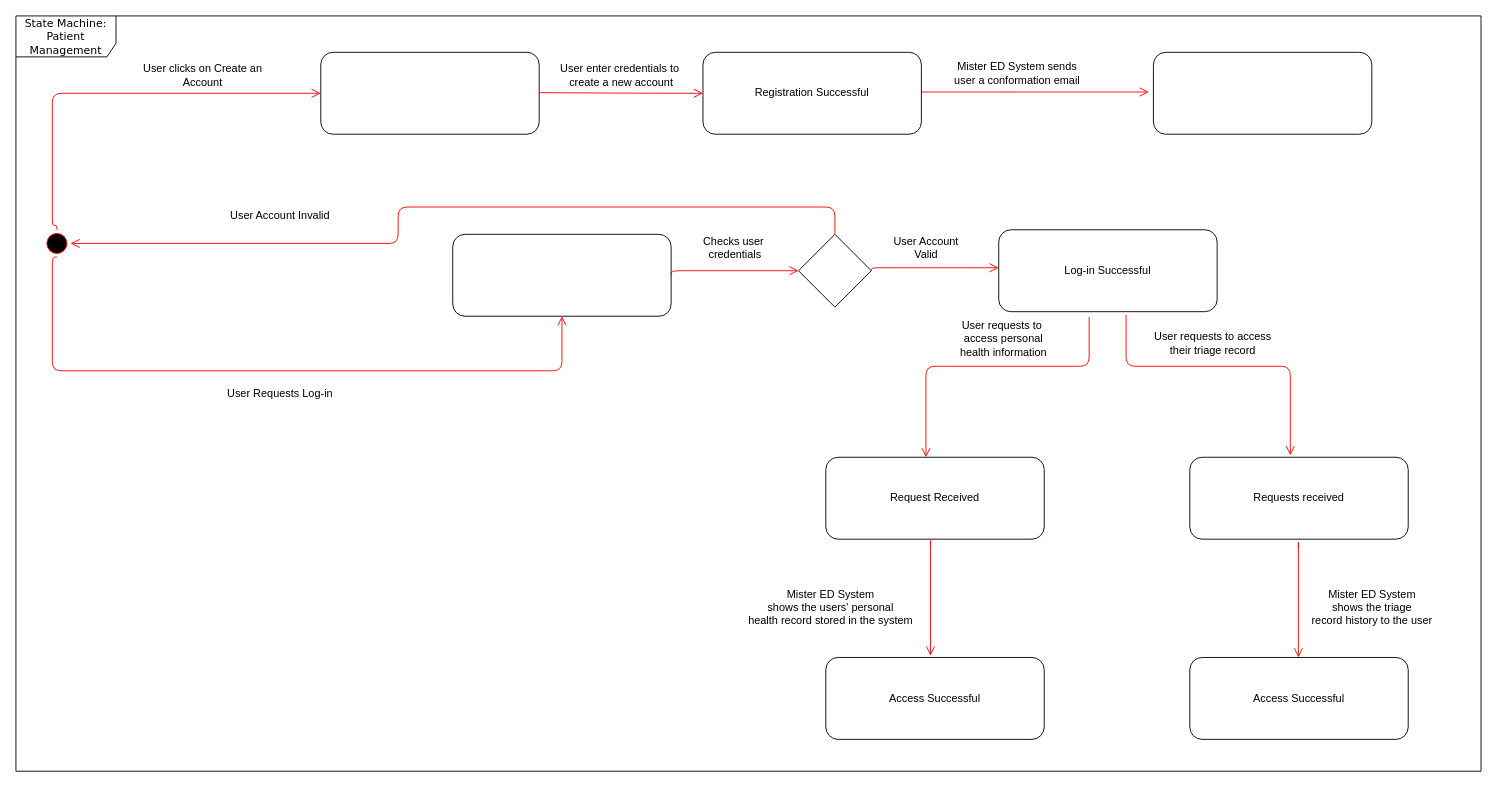
This 1497x787 diagram has some shape labels left out. The centre of each missing label's shape, as x and y in pixels:
"Mister ED System takes the user to the registration website" belongs at pixel 429 92.
"Received User Request" belongs at pixel 561 274.
"User confirms the email, completing the Registration Process" belongs at pixel 1262 92.
